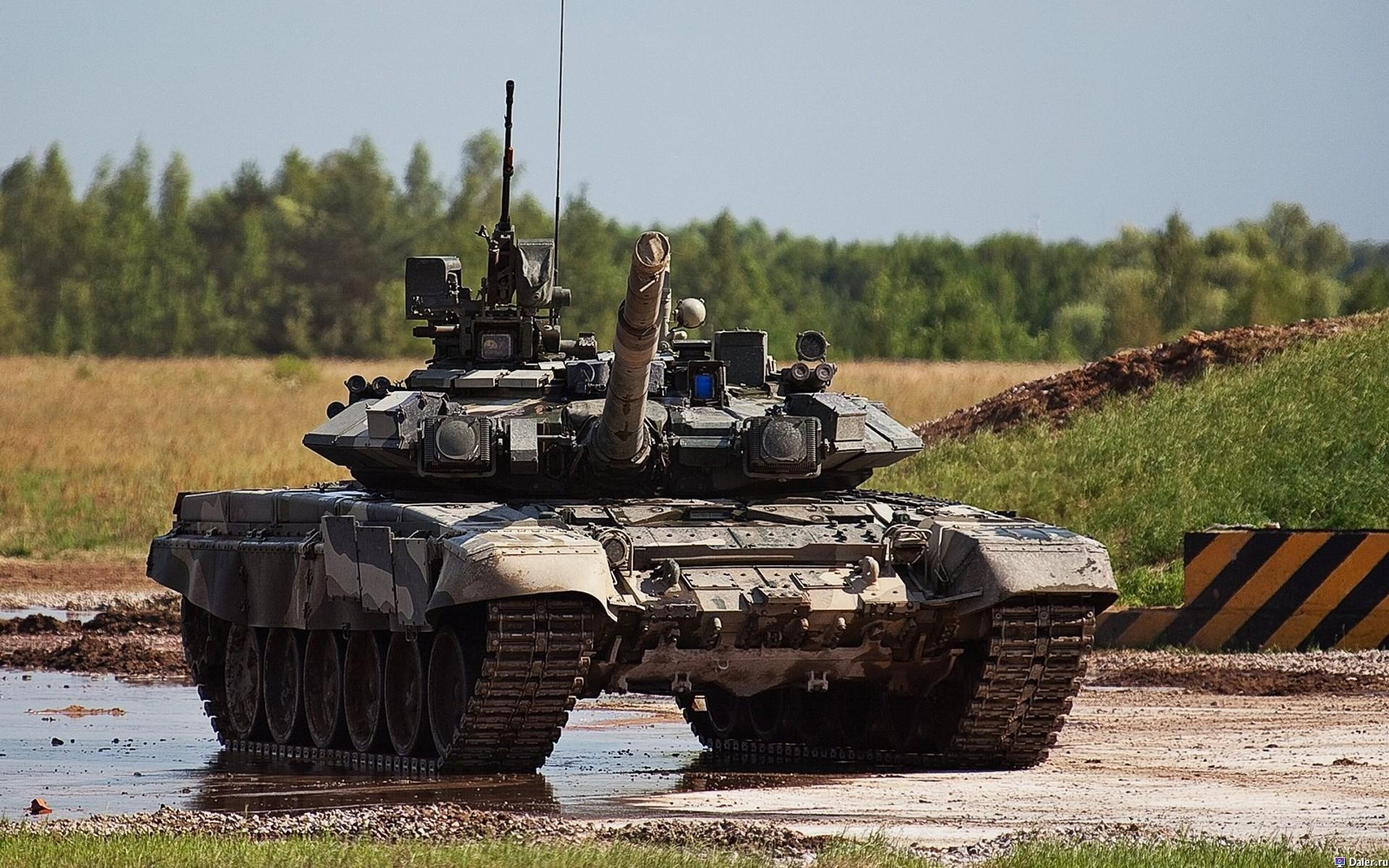tank: (145, 75, 1126, 784)
